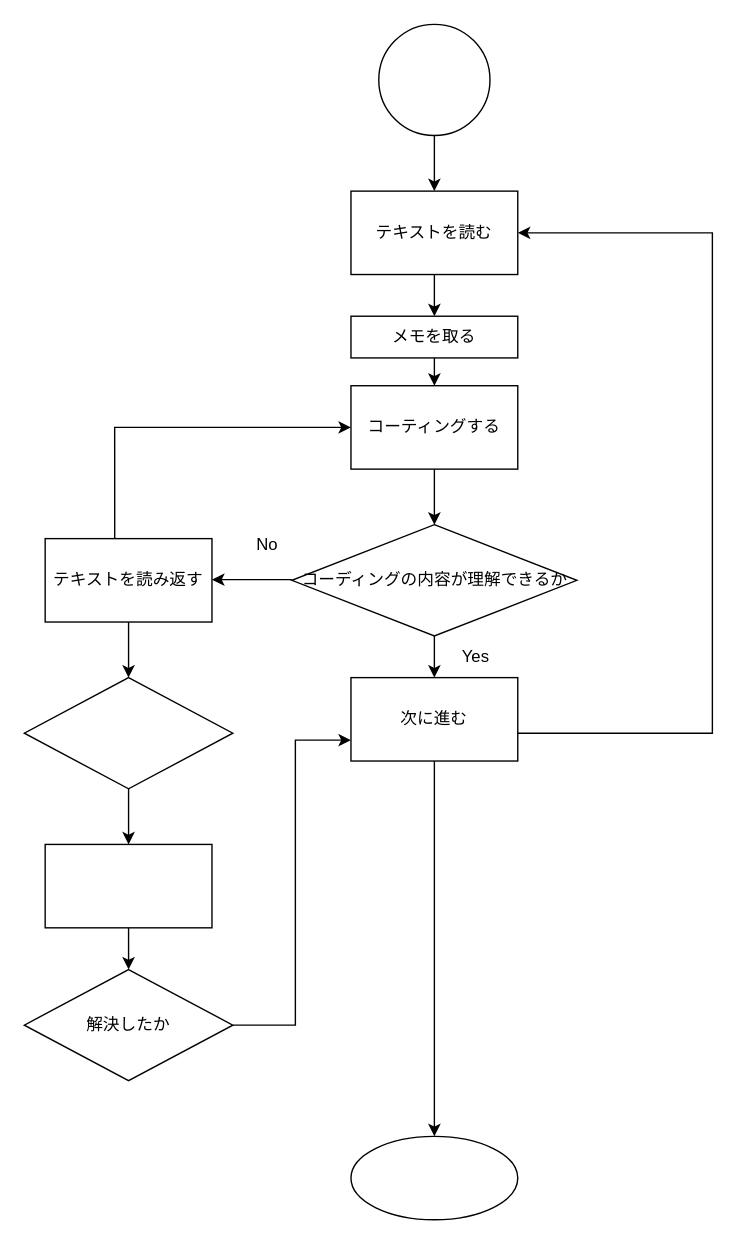
The diagram is 748 pixels wide and 1244 high, and some of its shapes have lost their labels. The centre of each missing label's shape, as x and y in pixels:
インターネット等で調べる: [128,885]
内容の理解が深まったか: [128,732]
学習終了: [434,1177]
学習開始: [433,79]
